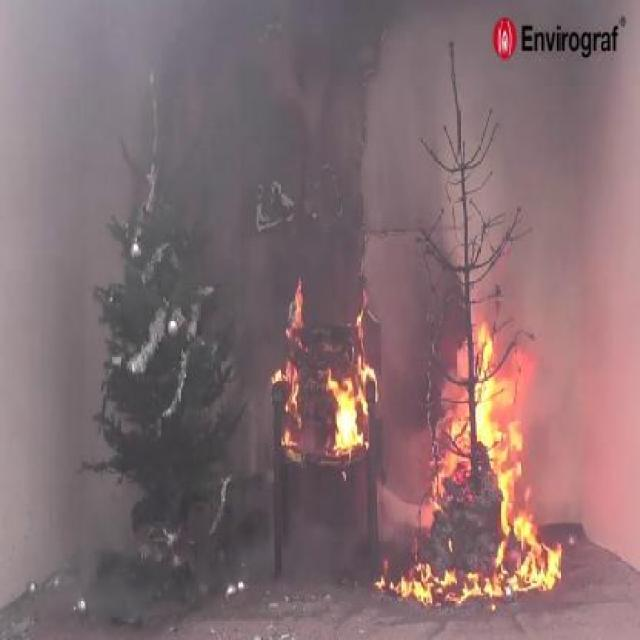fire: (422, 294, 564, 600), (285, 298, 383, 464)
smoke: (8, 20, 290, 582), (234, 35, 422, 277)
